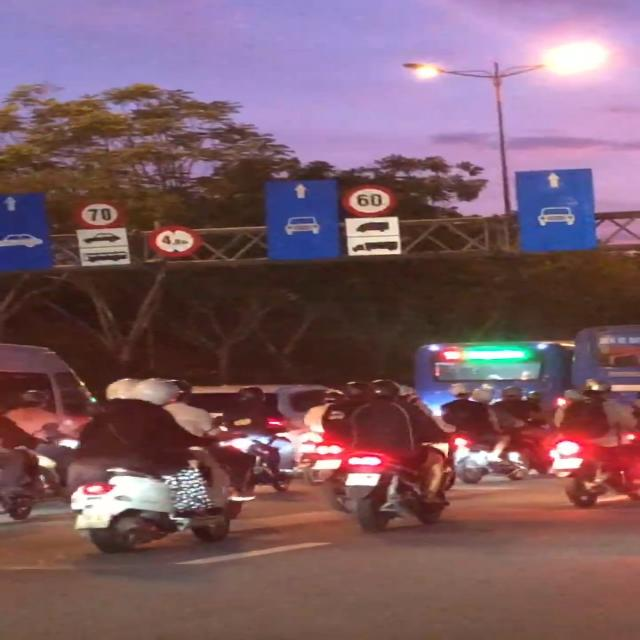Bien bao han che chieu cao: (150, 226, 206, 260)
